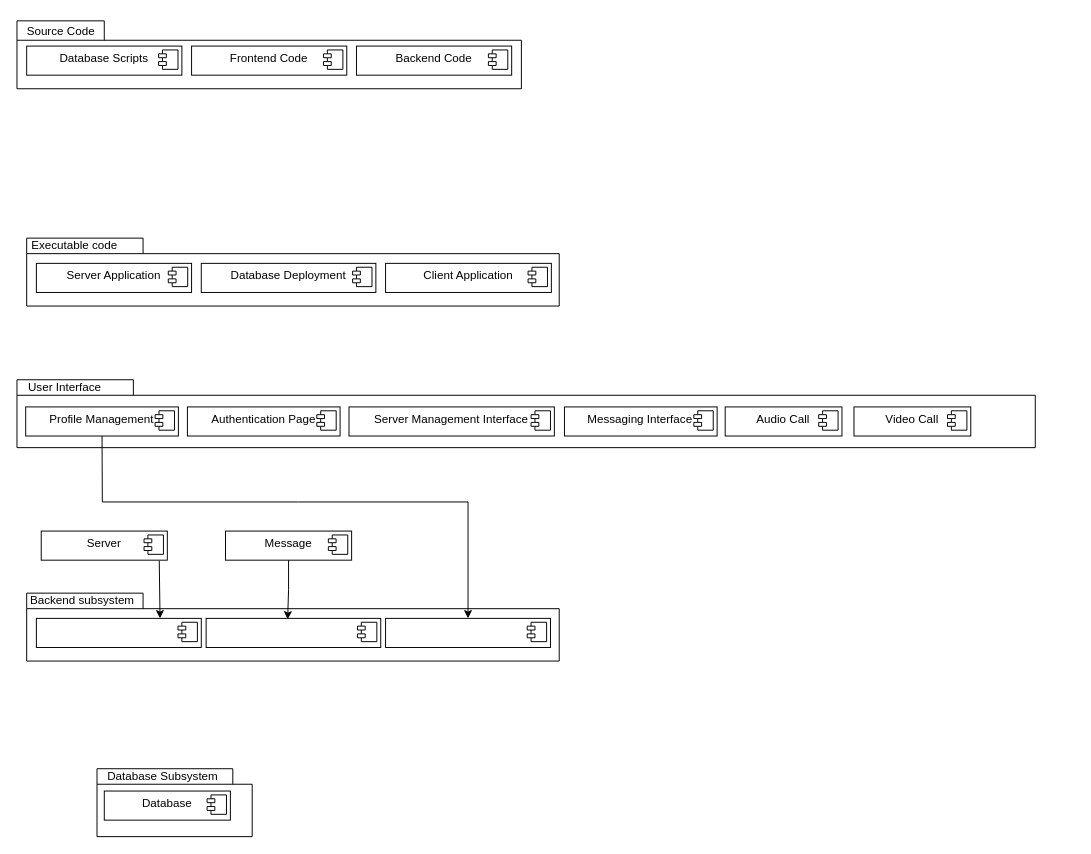
This 1091x854 diagram has some shape labels left out. Here are the shapes that lost their labels. From the top down, the centre of each, then its label:
At (118,632): "Server Management".
At (293,632): "Messaging System".
At (467,632): "Authentication System".
